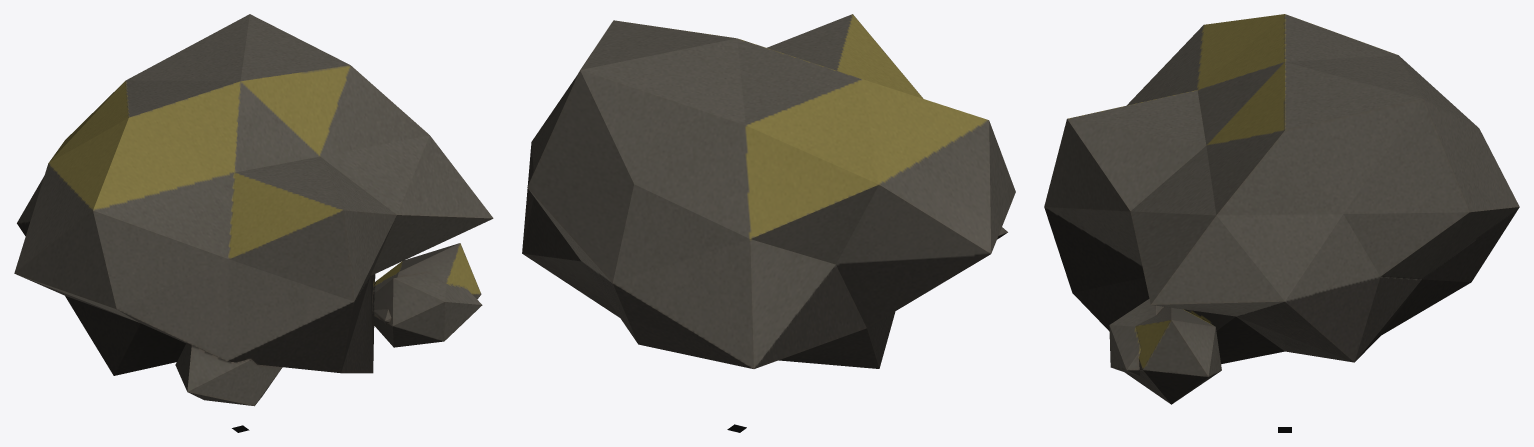
Rendered from feature_rock_2.fbx.
3 views of the same model, side by side, from view 1: azimuth 30°, elevation 25°; view 2: azimuth 150°, elevation 25°; view 3: azimuth 270°, elevation 25° (orthographic). The views are drawn at different scales.
Parts seen in each view (by area): view 1: base_bar; view 2: base_bar; view 3: base_bar.
Boxes of the visible parts, x1,y1,x2,y2 form: base_bar: (14, 14, 493, 406); base_bar: (522, 14, 1015, 368); base_bar: (1044, 14, 1519, 404).
Size of the model in its own units: 725 by 582 by 679.
Materials: 2 (2 with a texture image).
